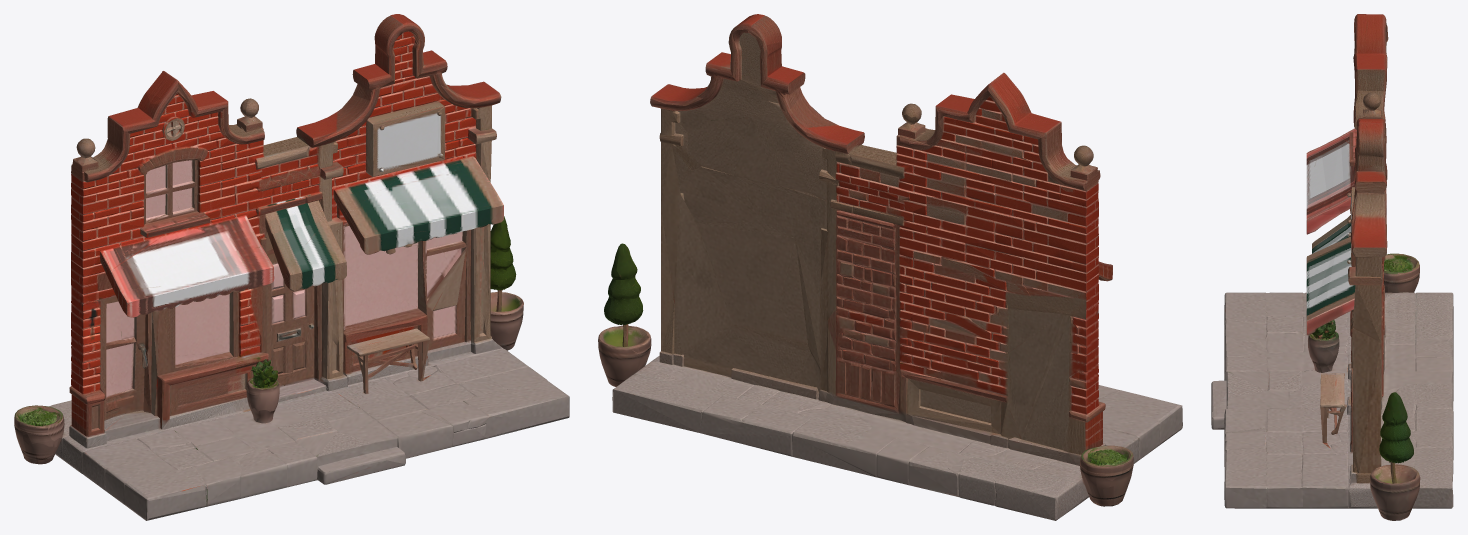
File: a8_strip_mall.glb
The picture shows the model from 3 angles, left to right: view 1: azimuth 30°, elevation 25°; view 2: azimuth 150°, elevation 25°; view 3: azimuth 270°, elevation 25°; orthographic projection. The views are drawn at different scales.
Size of the model in its own units: 1.9 by 1.33 by 0.8414.
Materials: 1 (1 with a texture image).
